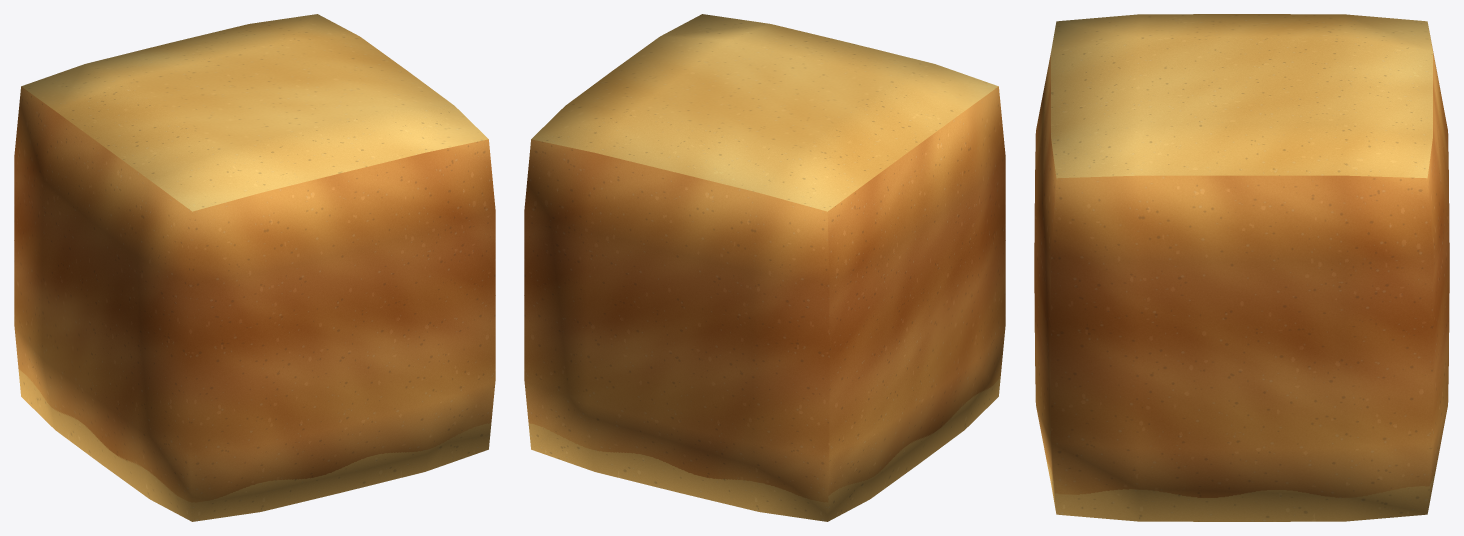
Rendered from golden_single.glb.
3 views of the same model, side by side, from view 1: azimuth 30°, elevation 25°; view 2: azimuth 150°, elevation 25°; view 3: azimuth 270°, elevation 25° (orthographic). The views are drawn at different scales.
Parts seen in each view (by area): view 1: golden_single; view 2: golden_single; view 3: golden_single.
Boxes of the visible parts, x1,y1,x2,y2 form: golden_single: [14, 14, 495, 521]; golden_single: [524, 14, 1005, 521]; golden_single: [1034, 14, 1449, 521].
Size of the model in its own units: 1 by 1 by 1.
Materials: 2 (2 with a texture image).
